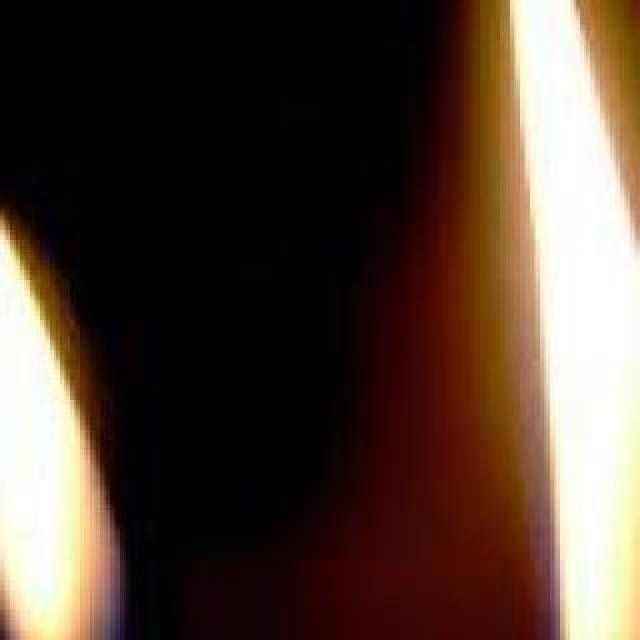fire: (496, 0, 640, 640), (0, 190, 122, 640)
